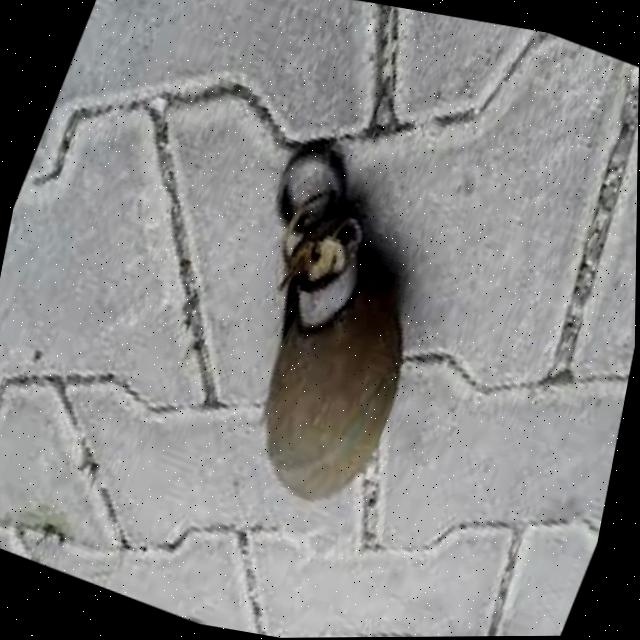grenade: (165, 101, 496, 525)
